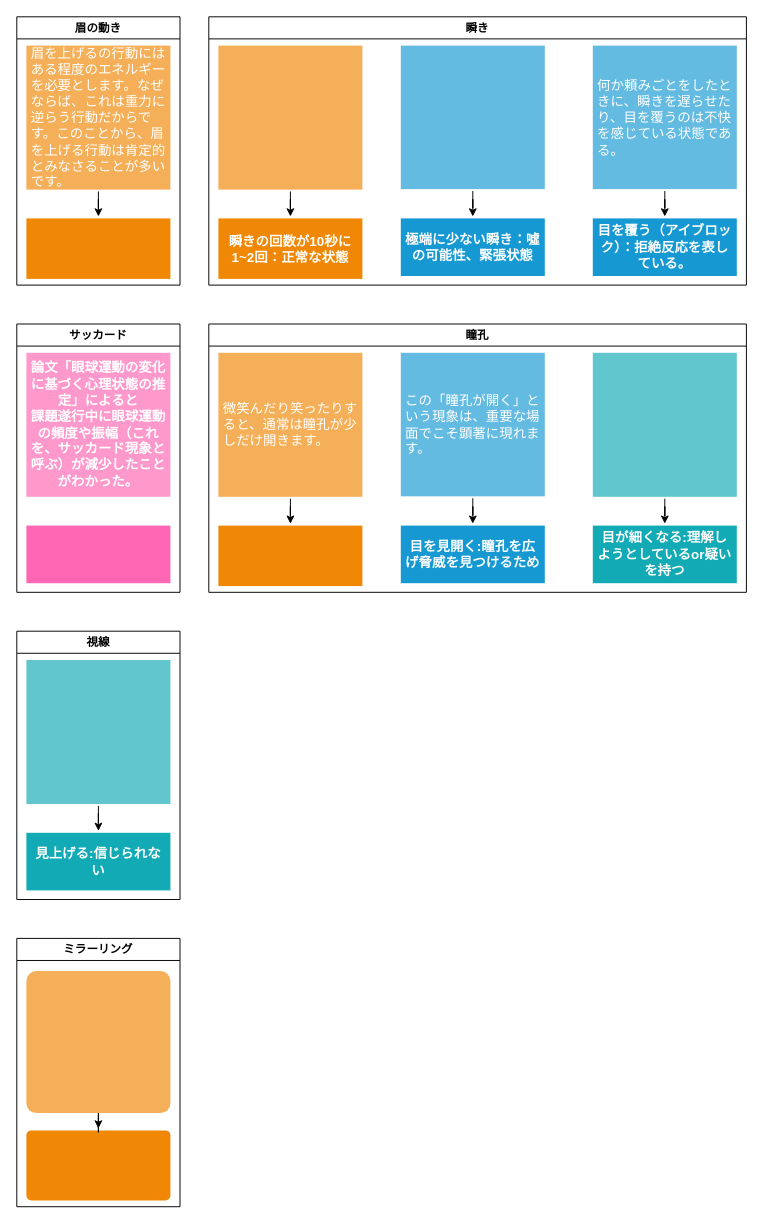
Image size: 763x1224. Some labels were removed from this diagram. The centre of each missing label's shape, as x and y in pixels:
"6~10の瞬きはリラックスされたフラットな状態" goes at point (290, 117).
"フラッシュとも呼ばれる急激な眉の上昇が見られる場合、それは良い兆候です" goes at point (98, 248).
"同じ行動をとる" goes at point (98, 1165).
"同じ行動をとる人を 無意識に気に入ってしまう心理" goes at point (98, 1042).
"物事が不可能に思えるときや、人が不運に見舞われたときに、天井や空を見上げる人もいます。" goes at point (98, 732).
"目の焦点が動かない:集中状態" goes at point (98, 554).
"瞬きの数が極端に減少した場合、かなりの緊張状態であることは間違いありません。" goes at point (472, 117).
"瞳孔が少し開く:リラックスした状態" goes at point (290, 555).
"誰かが目を細めたときは、何か恐怖を感じている状態であり、情報の処理に時間がかかっていると判断してよいです。" goes at point (664, 424).
